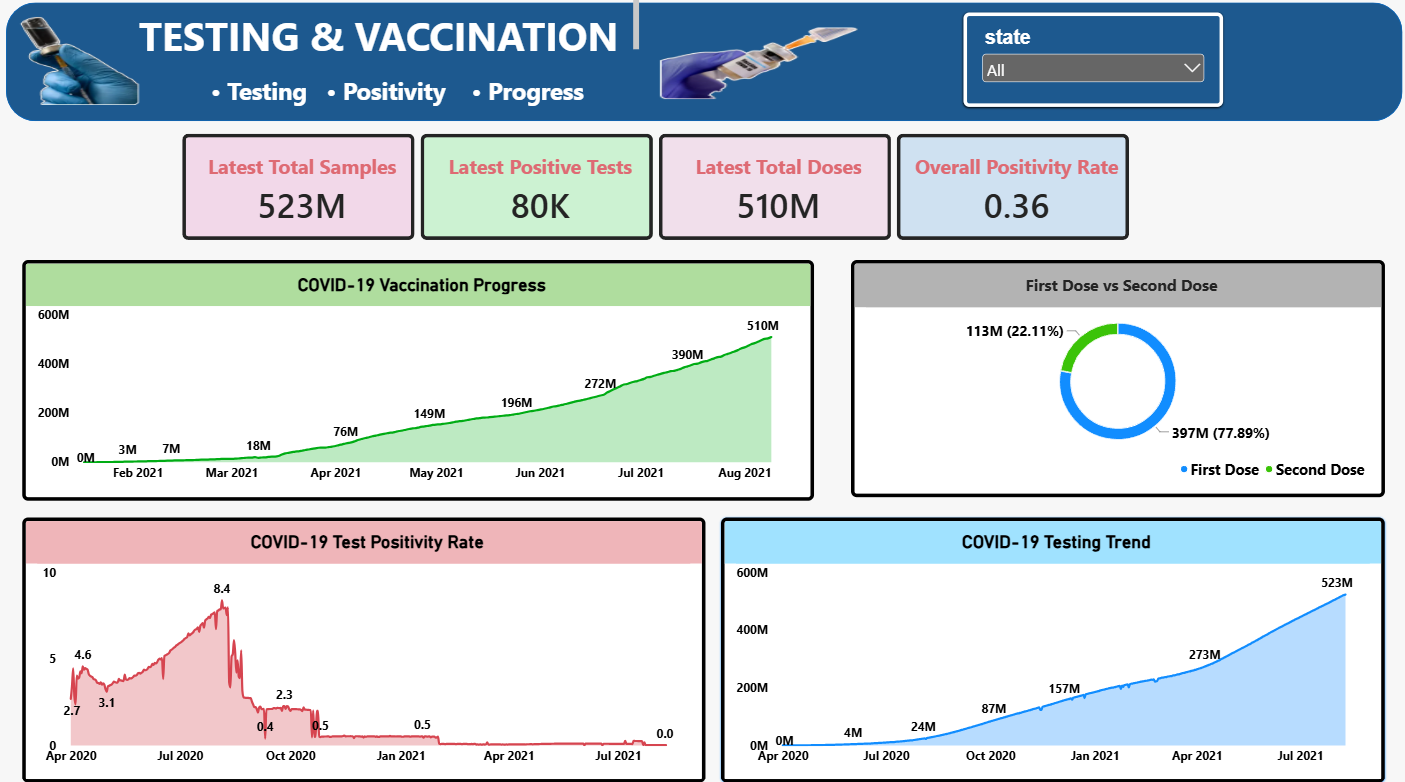

The dashboard page shown, as its layout file describes it:
{"tool":"powerbi","page":{"name":"Testing & Vaccination","canvas":[1920,1080],"ordinal":2},"visuals":[{"type":"shape","box":[13.8,10.3,1893.5,160.9],"z":0,"group":"g1"},{"type":"lineChart","title":"COVID-19 Testing Trend","fields":{"Category":["Calender.Date"],"Y":["covid_india.Total Testing Samples"]},"box":[982.6,708.7,900,360.9],"z":1000},{"type":"lineChart","title":"COVID-19 Test Positivity Rate","fields":{"Category":["Calender.Date"],"Y":["covid_india.Overall Positivity Rate"]},"box":[34.8,708.7,926.1,360.9],"z":2000},{"type":"textbox","box":[13.8,0,858.6,167.2],"z":3000,"group":"g1"},{"type":"lineChart","title":"COVID-19 Vaccination Progress","fields":{"Category":["Calender.Date"],"Y":["covid_india.Vaccination Doses"]},"box":[34.8,358.7,1073.9,326.1],"z":4000},{"type":"cardVisual","fields":{"Data":["covid_india.Latest Total Samples","covid_india.Latest Positive Tests","covid_india.Latest Total Doses","covid_india.Overall Positivity Rate"]},"box":[251.8,187.5,1284.7,144.1],"z":5000},{"type":"slicer","fields":{"Values":["covid_india.state"]},"box":[1311.3,23.9,352.2,128.3],"z":6000,"group":"g1"},{"type":"donutChart","title":"First Dose vs Second Dose","fields":{"Y":["covid_india.Dose Count"],"Category":["Dose Type.Dose Type"]},"box":[1158.7,358.7,723.9,321.7],"z":7000},{"type":"image","box":[13.8,15.5,200,148.3],"z":8000,"group":"g1"},{"type":"image","box":[862.4,19,343.1,148.3],"z":9000,"group":"g1"},{"type":"group","id":"g1","title":"Group 1","box":[13.8,0,1893.5,171.2],"z":10001}]}

Visuals, with their boxes in screenshot pixels (x1, y1, x2, y2), scaled from the page's 1920x1080 canvas onto the 1405x782 screenshot:
shape: box(10, 7, 1396, 124)
"COVID-19 Testing Trend" lineChart: box(719, 513, 1378, 774)
"COVID-19 Test Positivity Rate" lineChart: box(25, 513, 703, 774)
textbox: box(10, 0, 638, 121)
"COVID-19 Vaccination Progress" lineChart: box(25, 260, 811, 496)
cardVisual - covid_india.Latest Total Samples x covid_india.Latest Positive Tests: box(184, 136, 1124, 240)
slicer - covid_india.state: box(960, 17, 1217, 110)
"First Dose vs Second Dose" donutChart: box(848, 260, 1378, 493)
image: box(10, 11, 156, 119)
image: box(631, 14, 882, 121)
"Group 1" group: box(10, 0, 1396, 124)
